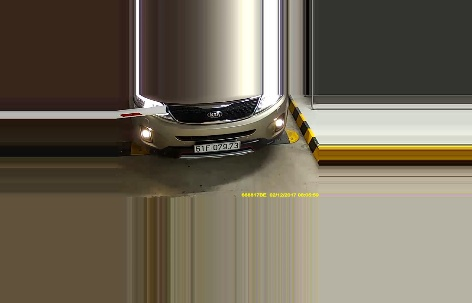plate: (192, 141, 242, 153)
